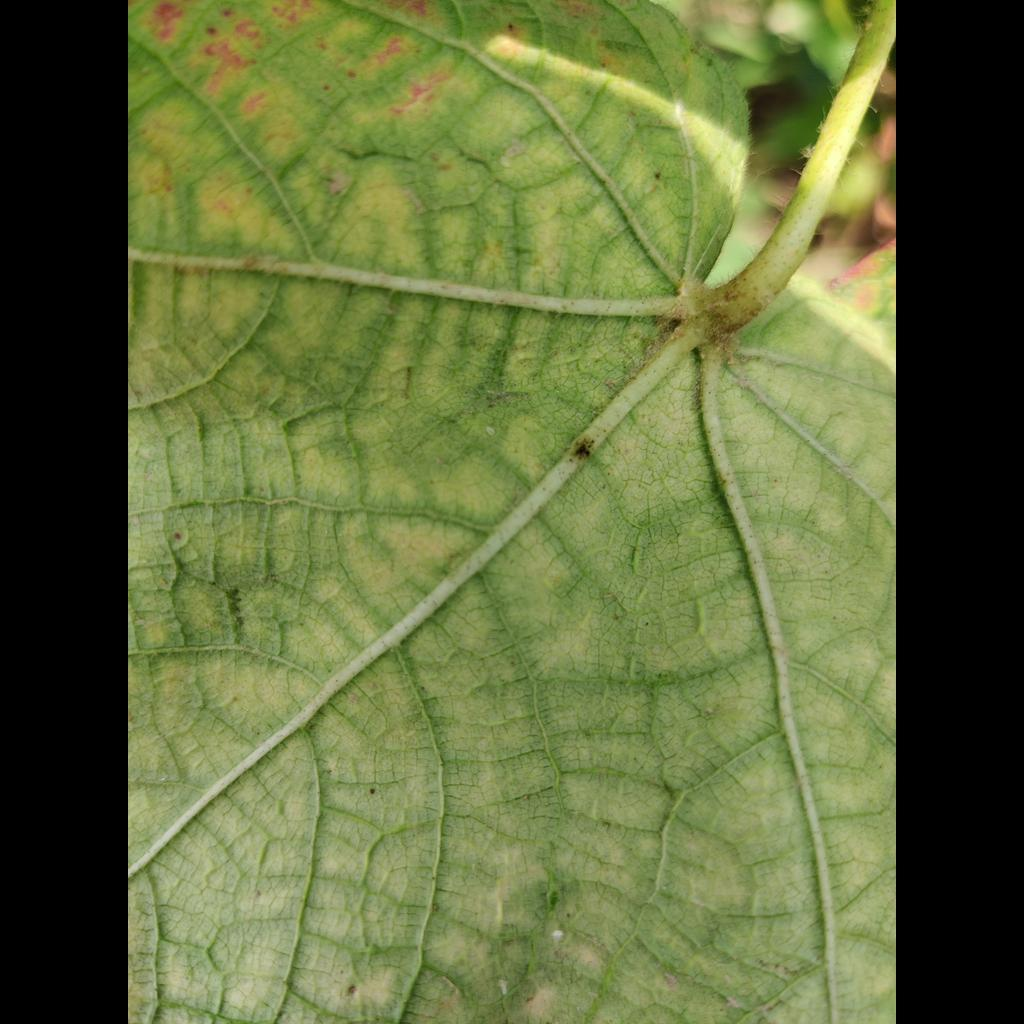nymph: (497, 979, 509, 995), (550, 929, 565, 938), (485, 426, 495, 436)
